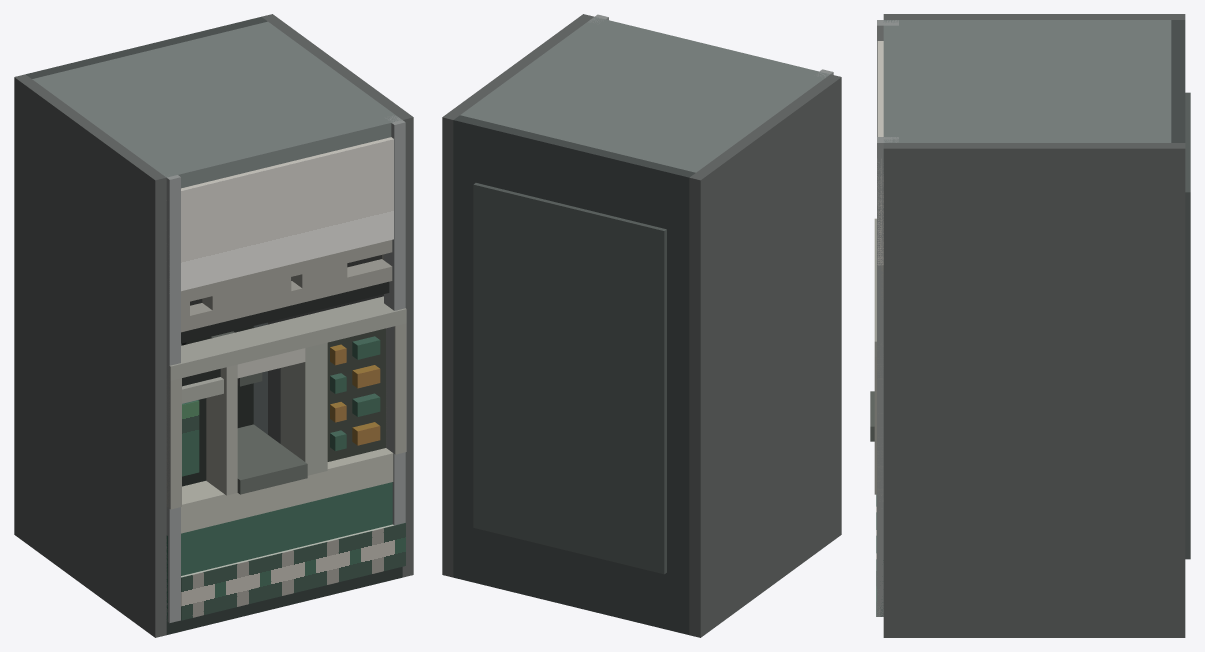
Rendered from CMU3DVendorChemistryCloud.glb.
3 views of the same model, side by side, from view 1: azimuth 30°, elevation 25°; view 2: azimuth 150°, elevation 25°; view 3: azimuth 270°, elevation 25° (orthographic). The views are drawn at different scales.
Parts seen in each view (by area): view 1: left full depth chassis, solid roof, large pale upper header original detail, medical crosses original narrow strip original detail, lower green cover, main upper rail, lower silver separation, right full depth chassis, center compartment right rail, left satin front rail, right satin front rail, right control bank (+17 smaller); view 2: left full depth chassis, rear removable cover, rear enclosed shell, solid roof, right full depth chassis; view 3: right full depth chassis, solid roof, right satin front rail, rear removable cover, rear enclosed shell, left full depth chassis, large pale upper header, main right rail.
Boxes of the visible parts, <box> form: left full depth chassis: <box>14,74,166,637</box>; solid roof: <box>32,21,401,188</box>; large pale upper header original detail: <box>169,139,393,293</box>; medical crosses original narrow strip original detail: <box>181,523,405,620</box>; lower green cover: <box>166,482,392,621</box>; main upper rail: <box>166,296,406,380</box>; lower silver separation: <box>181,448,393,533</box>; right full depth chassis: <box>262,14,413,577</box>; center compartment right rail: <box>280,342,327,475</box>; left satin front rail: <box>166,175,180,622</box>; right satin front rail: <box>384,115,405,525</box>; right control bank: <box>327,328,385,461</box>; left full depth chassis: <box>689,74,841,637</box>; rear removable cover: <box>473,183,666,574</box>; rear enclosed shell: <box>453,115,695,634</box>; solid roof: <box>460,17,829,172</box>; right full depth chassis: <box>442,14,593,577</box>; right full depth chassis: <box>883,143,1185,637</box>; solid roof: <box>883,20,1171,142</box>; right satin front rail: <box>877,137,898,616</box>; rear removable cover: <box>1185,92,1190,559</box>; rear enclosed shell: <box>1171,20,1185,142</box>; left full depth chassis: <box>883,14,1185,19</box>; large pale upper header: <box>878,41,883,265</box>; main right rail: <box>874,357,883,494</box>.
Bounding box in the file's own units: 0.7188 × 1.22 × 0.722.
34 materials, 7 textured.
